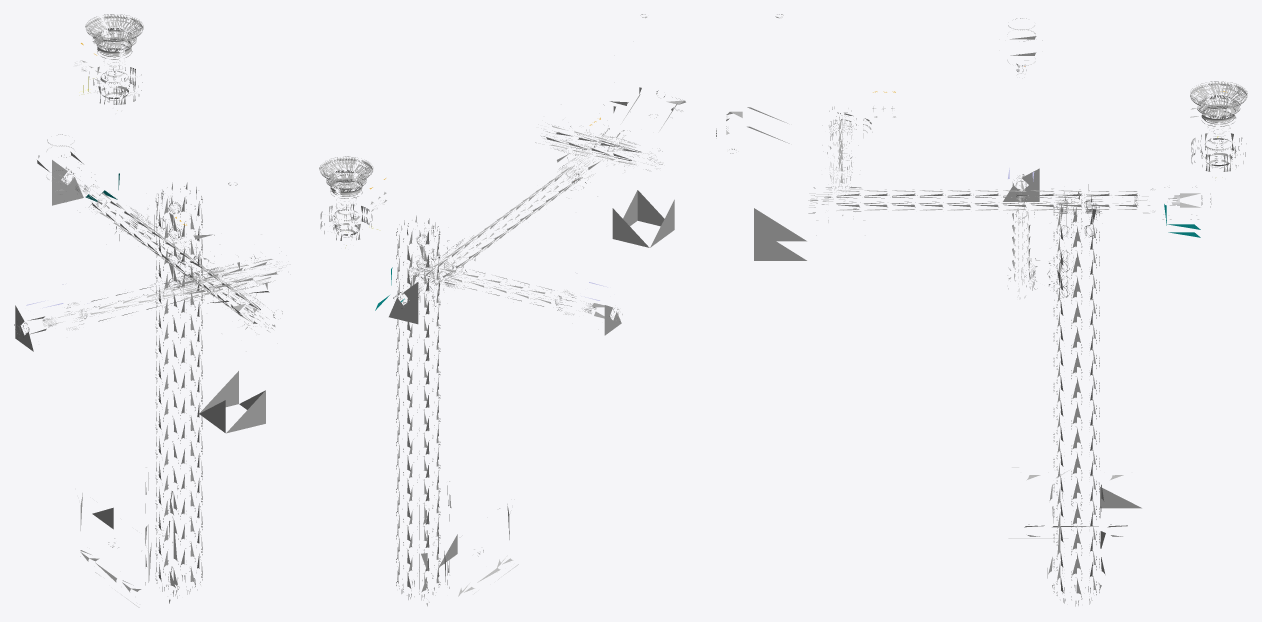
3 views of the same model, side by side, from view 1: azimuth 30°, elevation 25°; view 2: azimuth 150°, elevation 25°; view 3: azimuth 270°, elevation 25° (orthographic). The views are drawn at different scales.
Parts seen in each view (by area): view 1: F19721000063101014121_001_zb_ub_spanner_21_fa; view 2: F19721000063101014121_001_zb_ub_spanner_21_fa; view 3: F19721000063101014121_001_zb_ub_spanner_21_fa.
Boxes of the visible parts, bbox=[...] form: F19721000063101014121_001_zb_ub_spanner_21_fa: bbox=[14, 14, 289, 607]; F19721000063101014121_001_zb_ub_spanner_21_fa: bbox=[319, 14, 685, 606]; F19721000063101014121_001_zb_ub_spanner_21_fa: bbox=[716, 14, 1247, 606].
Bounding box in the file's own units: 275 × 576 × 642.
